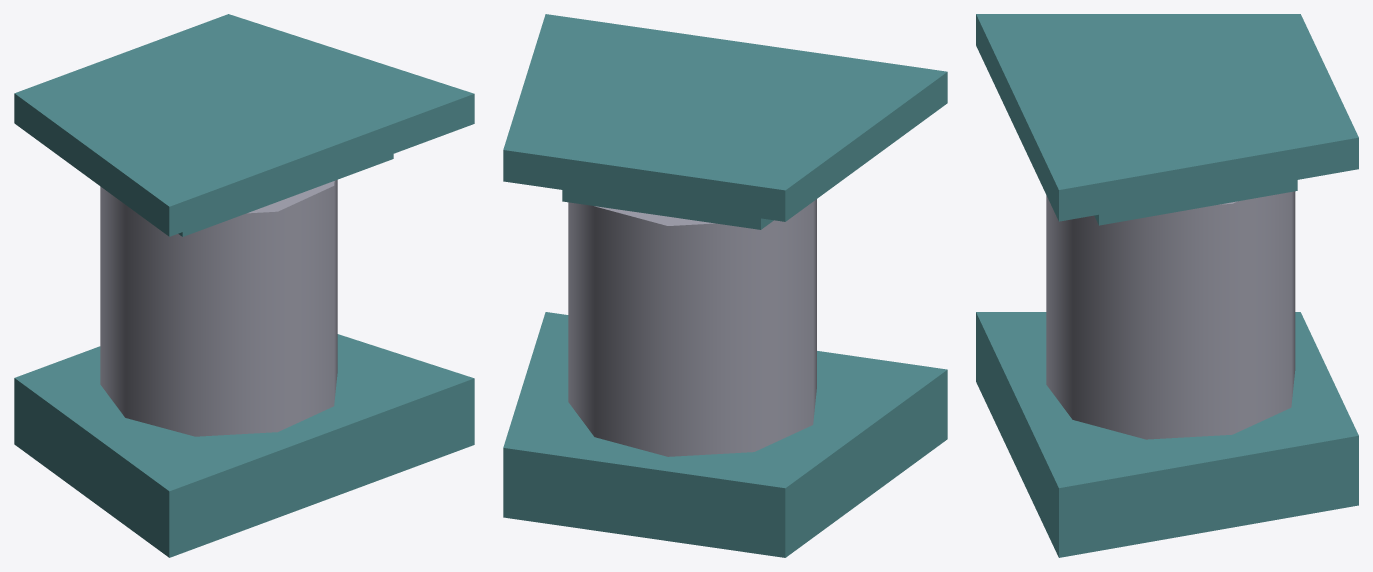
The model's file is Ascensor_Antena_PicduMidi_centrado_en_torre_01.fbx.
3 renders of one model, left to right at view 1: azimuth 30°, elevation 25°; view 2: azimuth 150°, elevation 25°; view 3: azimuth 270°, elevation 25°, orthographic. The views are drawn at different scales.
Parts seen in each view (by area): view 1: Ascensor_Antena_PicduMidi_centrado_en_torre; view 2: Ascensor_Antena_PicduMidi_centrado_en_torre; view 3: Ascensor_Antena_PicduMidi_centrado_en_torre.
Boxes of the visible parts, x1=… form: Ascensor_Antena_PicduMidi_centrado_en_torre: x1=14, y1=14, x2=474, y2=557; Ascensor_Antena_PicduMidi_centrado_en_torre: x1=503, y1=14, x2=947, y2=557; Ascensor_Antena_PicduMidi_centrado_en_torre: x1=976, y1=14, x2=1358, y2=557.
Bounding box in the file's own units: 164 × 159 × 150.
